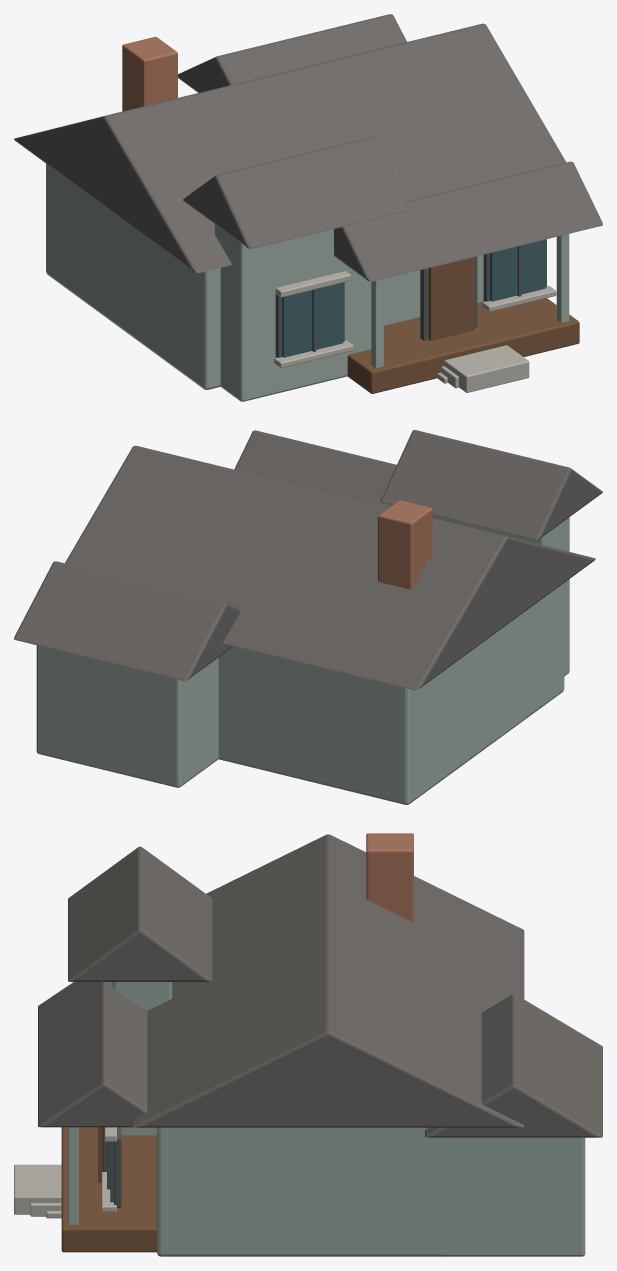
File: Bungalow_01.fbx
3 views of the same model, one above another, from view 1: azimuth 30°, elevation 25°; view 2: azimuth 150°, elevation 25°; view 3: azimuth 270°, elevation 25° (orthographic). The views are drawn at different scales.
Visible parts, largest first — view 1: Bungalow_MainRoof, Bungalow_Main, Bungalow_PorchRoof, Bungalow_FrontGable, Bungalow_FrontRoof, Bungalow_PorchDeck, Bungalow_RearRoof, Bungalow_BayWindow_Glass, Bungalow_Chimney, Bungalow_Door, Bungalow_PorchSteps_3, Bungalow_FrontWindow_Glass (+7 smaller); view 2: Bungalow_MainRoof, Bungalow_Main, Bungalow_RearWing, Bungalow_RearRoof, Bungalow_FrontRoof, Bungalow_PorchRoof, Bungalow_Chimney, Bungalow_FrontGable; view 3: Bungalow_MainRoof, Bungalow_Main, Bungalow_FrontRoof, Bungalow_RearRoof, Bungalow_PorchRoof, Bungalow_RearWing, Bungalow_PorchDeck, Bungalow_Chimney, Bungalow_PorchSteps_3, Bungalow_FrontGable, Bungalow_PorchPost_3.85, Bungalow_FrontWindow_Recess.
Part boxes in pixels (x1=…): Bungalow_MainRoof: x1=14, y1=23, x2=566, y2=273; Bungalow_Main: x1=46, y1=163, x2=483, y2=389; Bungalow_PorchRoof: x1=334, y1=161, x2=602, y2=281; Bungalow_FrontGable: x1=214, y1=224, x2=371, y2=401; Bungalow_FrontRoof: x1=183, y1=136, x2=409, y2=249; Bungalow_PorchDeck: x1=347, y1=298, x2=579, y2=393; Bungalow_RearRoof: x1=178, y1=14, x2=406, y2=92; Bungalow_BayWindow_Glass: x1=282, y1=283, x2=342, y2=357; Bungalow_Chimney: x1=122, y1=36, x2=177, y2=111; Bungalow_Door: x1=428, y1=257, x2=474, y2=340; Bungalow_PorchSteps_3: x1=444, y1=345, x2=529, y2=392; Bungalow_FrontWindow_Glass: x1=490, y1=239, x2=545, y2=301; Bungalow_MainRoof: x1=65, y1=445, x2=595, y2=690; Bungalow_Main: x1=218, y1=583, x2=564, y2=804; Bungalow_RearWing: x1=36, y1=645, x2=218, y2=787; Bungalow_RearRoof: x1=14, y1=561, x2=240, y2=681; Bungalow_FrontRoof: x1=380, y1=430, x2=602, y2=540; Bungalow_PorchRoof: x1=234, y1=430, x2=396, y2=507; Bungalow_Chimney: x1=378, y1=500, x2=432, y2=589; Bungalow_FrontGable: x1=432, y1=515, x2=569, y2=676; Bungalow_MainRoof: x1=132, y1=834, x2=524, y2=1127; Bungalow_Main: x1=157, y1=1127, x2=495, y2=1256; Bungalow_FrontRoof: x1=68, y1=846, x2=212, y2=981; Bungalow_RearRoof: x1=425, y1=994, x2=602, y2=1137; Bungalow_PorchRoof: x1=38, y1=982, x2=147, y2=1127; Bungalow_RearWing: x1=445, y1=1137, x2=585, y2=1256; Bungalow_PorchDeck: x1=61, y1=1127, x2=156, y2=1252; Bungalow_Chimney: x1=366, y1=833, x2=413, y2=922; Bungalow_PorchSteps_3: x1=14, y1=1164, x2=61, y2=1214; Bungalow_FrontGable: x1=112, y1=982, x2=172, y2=1135; Bungalow_PorchPost_3.85: x1=68, y1=1127, x2=78, y2=1224; Bungalow_FrontWindow_Recess: x1=114, y1=1127, x2=121, y2=1207.
Bounding box in the file's own units: 9.9 × 6.32 × 12.37.
